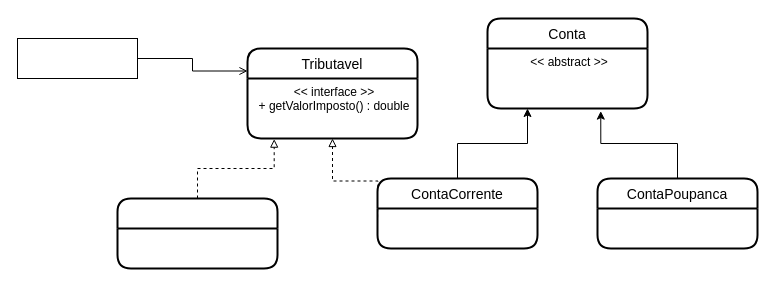
Some shapes in this 776 by 286 pixel diagram are drawn without their labels. The box of each missing label's shape, as (x1, y1, x2, y2) in pixels:
CalculadorImposto: (16, 38, 138, 78)
SeguroDeVida: (116, 197, 278, 269)
